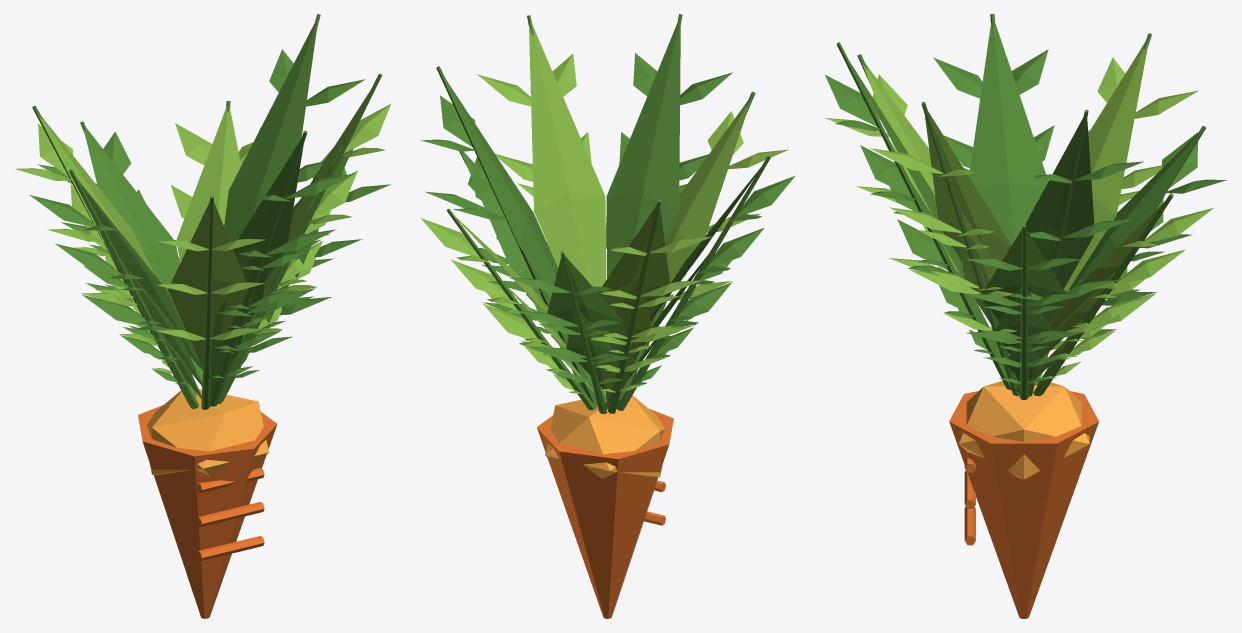
The model's file is carrot_growing.glb.
3 renders of one model, left to right at view 1: azimuth 30°, elevation 25°; view 2: azimuth 150°, elevation 25°; view 3: azimuth 270°, elevation 25°, orthographic. The views are drawn at different scales.
Parts seen in each view (by area): view 1: Stage_3_Mesh, Stage_2_Mesh, Stage_1_Mesh; view 2: Stage_3_Mesh, Stage_2_Mesh, Stage_1_Mesh; view 3: Stage_3_Mesh, Stage_2_Mesh, Stage_1_Mesh.
Boxes of the visible parts, x1,y1,x2,y2 form: Stage_3_Mesh: (15,14,390,618); Stage_2_Mesh: (73,194,333,385); Stage_1_Mesh: (129,300,285,398); Stage_3_Mesh: (420,14,795,618); Stage_2_Mesh: (481,183,732,388); Stage_1_Mesh: (530,319,688,403); Stage_3_Mesh: (825,14,1226,618); Stage_2_Mesh: (889,168,1164,365); Stage_1_Mesh: (937,266,1105,383).
Bounding box in the file's own units: 5.8e-05 × 9.16e-05 × 5.77e-05.
